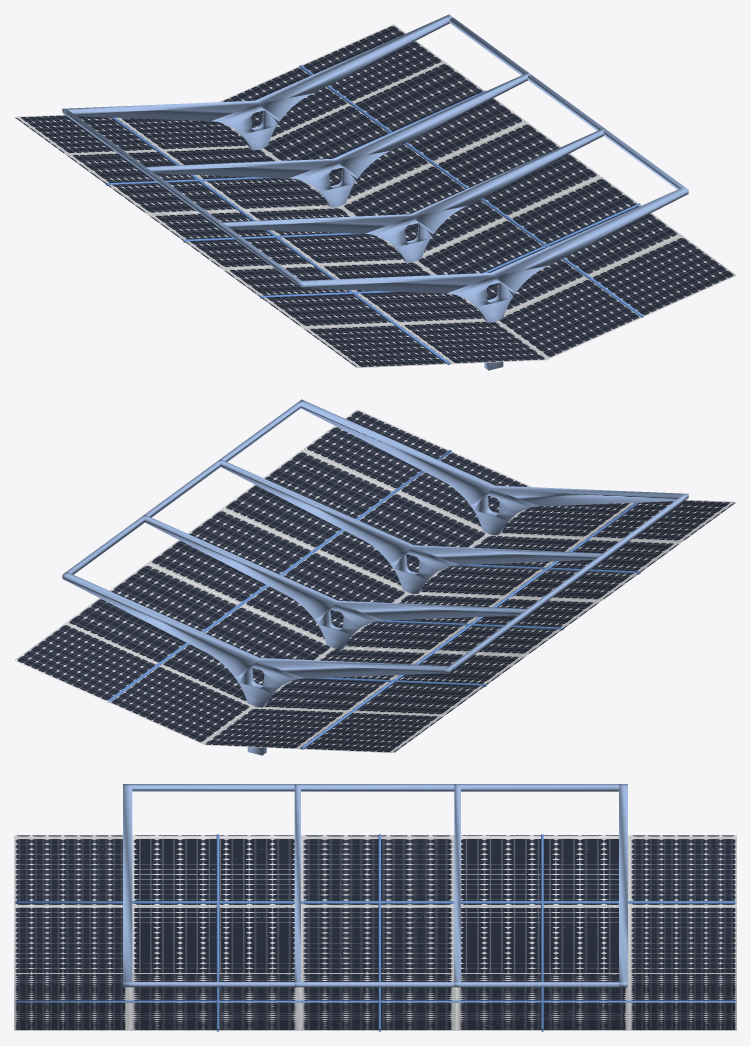
The model's file is gc_gfc.glb.
3 renders of one model, top to bottom at view 1: azimuth 30°, elevation 25°; view 2: azimuth 150°, elevation 25°; view 3: azimuth 270°, elevation 25°, orthographic. The views are drawn at different scales.
Parts seen in each view (by area): view 1: 光伏板, 支撑柱, 网; view 2: 光伏板, 支撑柱, 网; view 3: 光伏板, 支撑柱, 网.
Boxes of the visible parts, x1,y1,x2,y2 form: 光伏板: (14,24,736,367); 支撑柱: (62,14,688,370); 网: (106,65,643,364); 光伏板: (14,409,736,752); 支撑柱: (62,399,688,755); 网: (107,450,640,749); 光伏板: (14,835,736,1030); 支撑柱: (123,784,627,987); 网: (15,834,735,1031).
Size of the model in its own units: 183291 by 59749 by 281468.
Materials: 3 (1 with a texture image).
